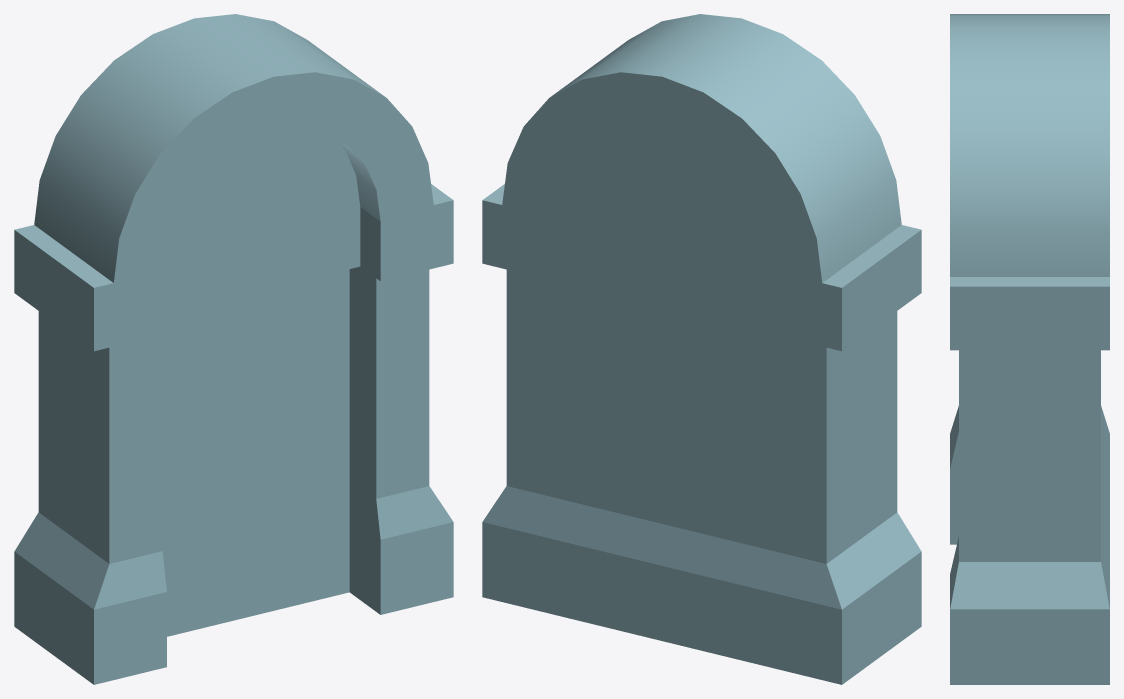
The model's file is gravestoneRound.fbx.
The picture shows the model from 3 angles, left to right: view 1: azimuth 30°, elevation 25°; view 2: azimuth 150°, elevation 25°; view 3: azimuth 270°, elevation 25°; orthographic projection.
Visible parts, largest first — view 1: gravestoneRound; view 2: gravestoneRound; view 3: gravestoneRound.
Part boxes in pixels (bbox=[...]): gravestoneRound: bbox=[14, 14, 453, 684]; gravestoneRound: bbox=[482, 14, 921, 684]; gravestoneRound: bbox=[950, 14, 1109, 684].
Bounding box in the file's own units: 3.9 × 5.85 × 1.5.
